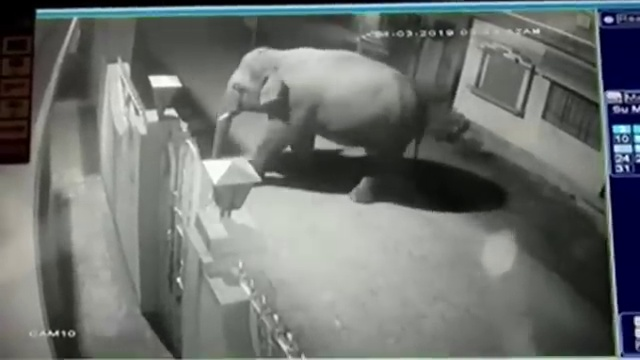Elephant: (212, 46, 426, 205)
